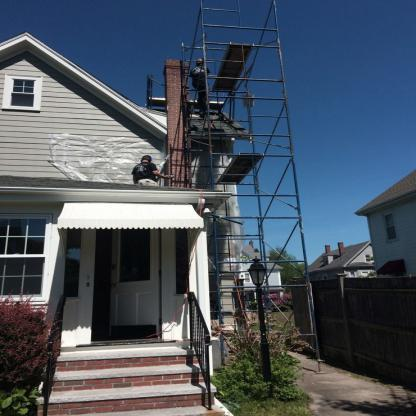door: (108, 229, 158, 334)
knob: (112, 284, 115, 288)
